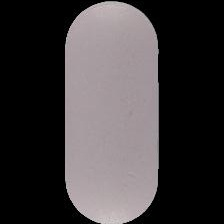51655-162: (0, 0, 224, 224)
